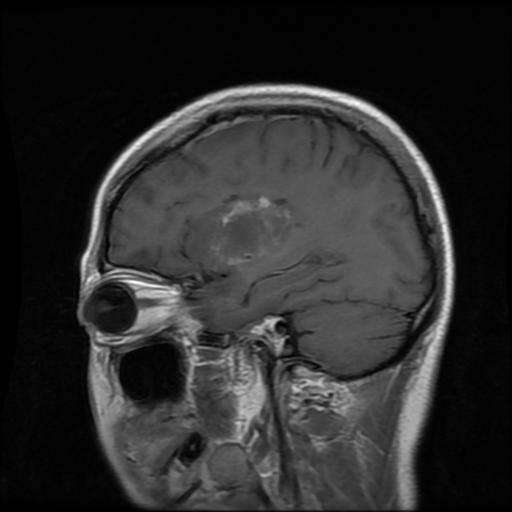Gliomia_tumour: (185, 193, 296, 268)
